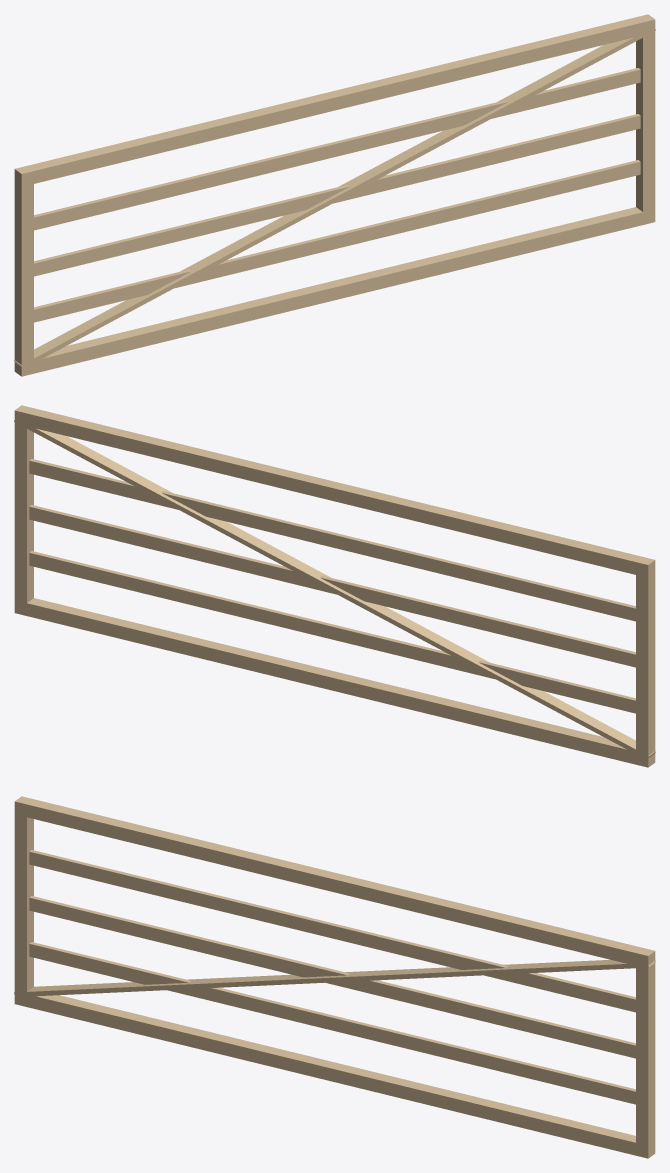
Rendered from boundary.gate.field.glb.
The picture shows the model from 3 angles, top to bottom: view 1: azimuth 30°, elevation 25°; view 2: azimuth 150°, elevation 25°; view 3: azimuth 330°, elevation 25°; orthographic projection.
Visible parts, largest first — view 1: main__softwood; view 2: main__softwood; view 3: main__softwood.
Part boxes in pixels (x1,y1,x2,y2): main__softwood: (14, 14, 655, 376); main__softwood: (14, 405, 655, 767); main__softwood: (14, 796, 655, 1158).
Bounding box in the file's own units: 3.61 × 1.1 × 0.07.
